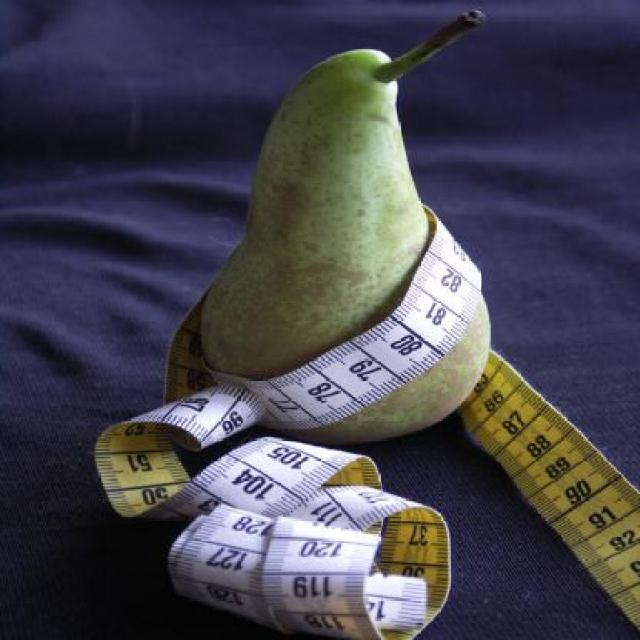Pear: (198, 49, 492, 448)
